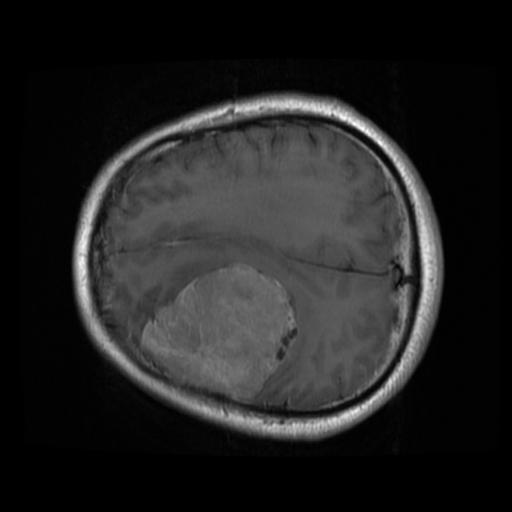meningioma: (140, 264, 296, 401)
